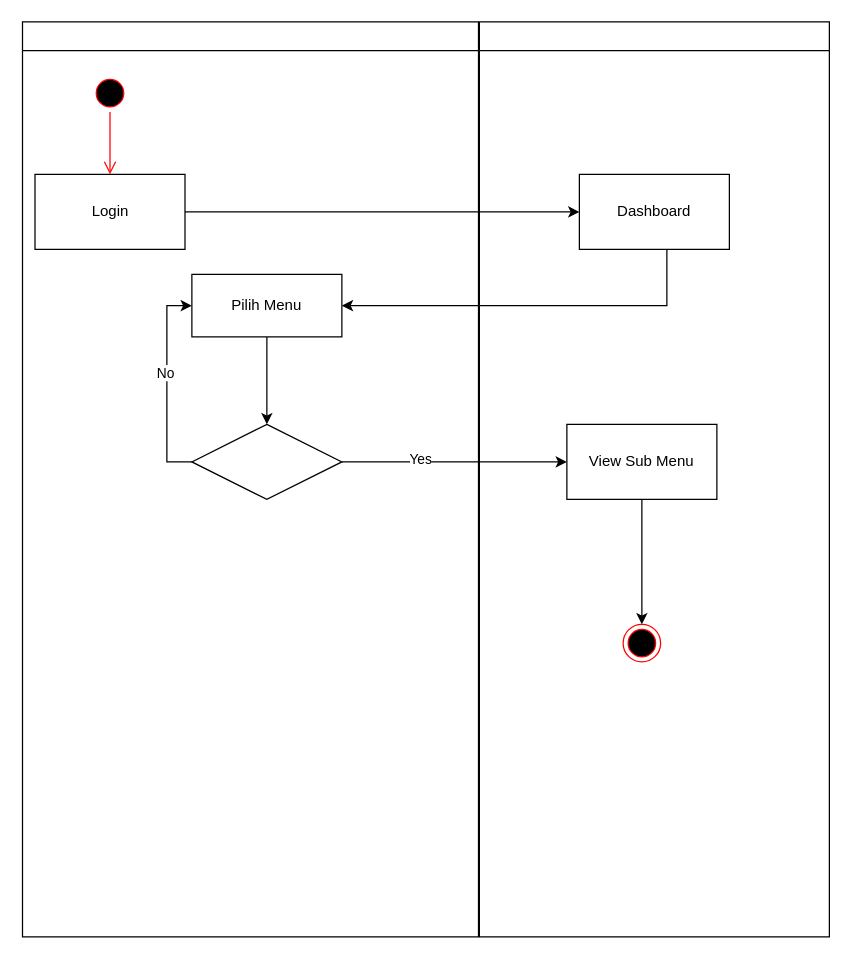
Some shapes in this 851 by 959 pixel diagram are drawn without their labels. Each missing label, with the box of its shape:
System: (478, 21, 829, 937)
User: (21, 21, 478, 937)
